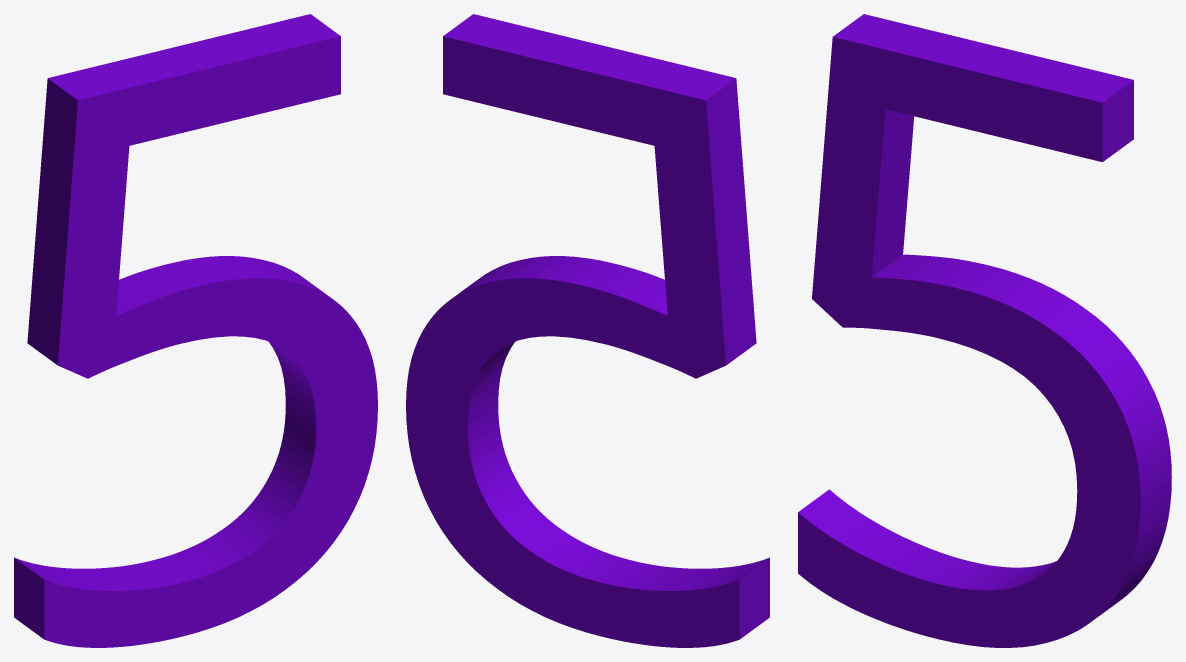
File: 3d-number-5.glb
3 views of the same model, side by side, from view 1: azimuth 30°, elevation 25°; view 2: azimuth 150°, elevation 25°; view 3: azimuth 330°, elevation 25° (orthographic). The views are drawn at different scales.
Parts seen in each view (by area): view 1: Mesh_Mesh_head_geo.001_lambert2SG.001; view 2: Mesh_Mesh_head_geo.001_lambert2SG.001; view 3: Mesh_Mesh_head_geo.001_lambert2SG.001.
Boxes of the visible parts, x1,y1,x2,y2 form: Mesh_Mesh_head_geo.001_lambert2SG.001: (14,14,377,647); Mesh_Mesh_head_geo.001_lambert2SG.001: (406,14,769,647); Mesh_Mesh_head_geo.001_lambert2SG.001: (798,14,1171,647).
Size of the model in its own units: 0.0317 by 0.0509 by 0.005.
